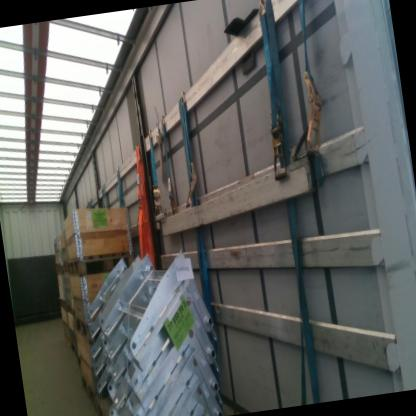pallet: (66, 247, 137, 279), (72, 308, 99, 348), (80, 371, 98, 413), (96, 397, 115, 416), (71, 341, 81, 370), (64, 332, 72, 350), (66, 301, 74, 317), (54, 261, 63, 274)
